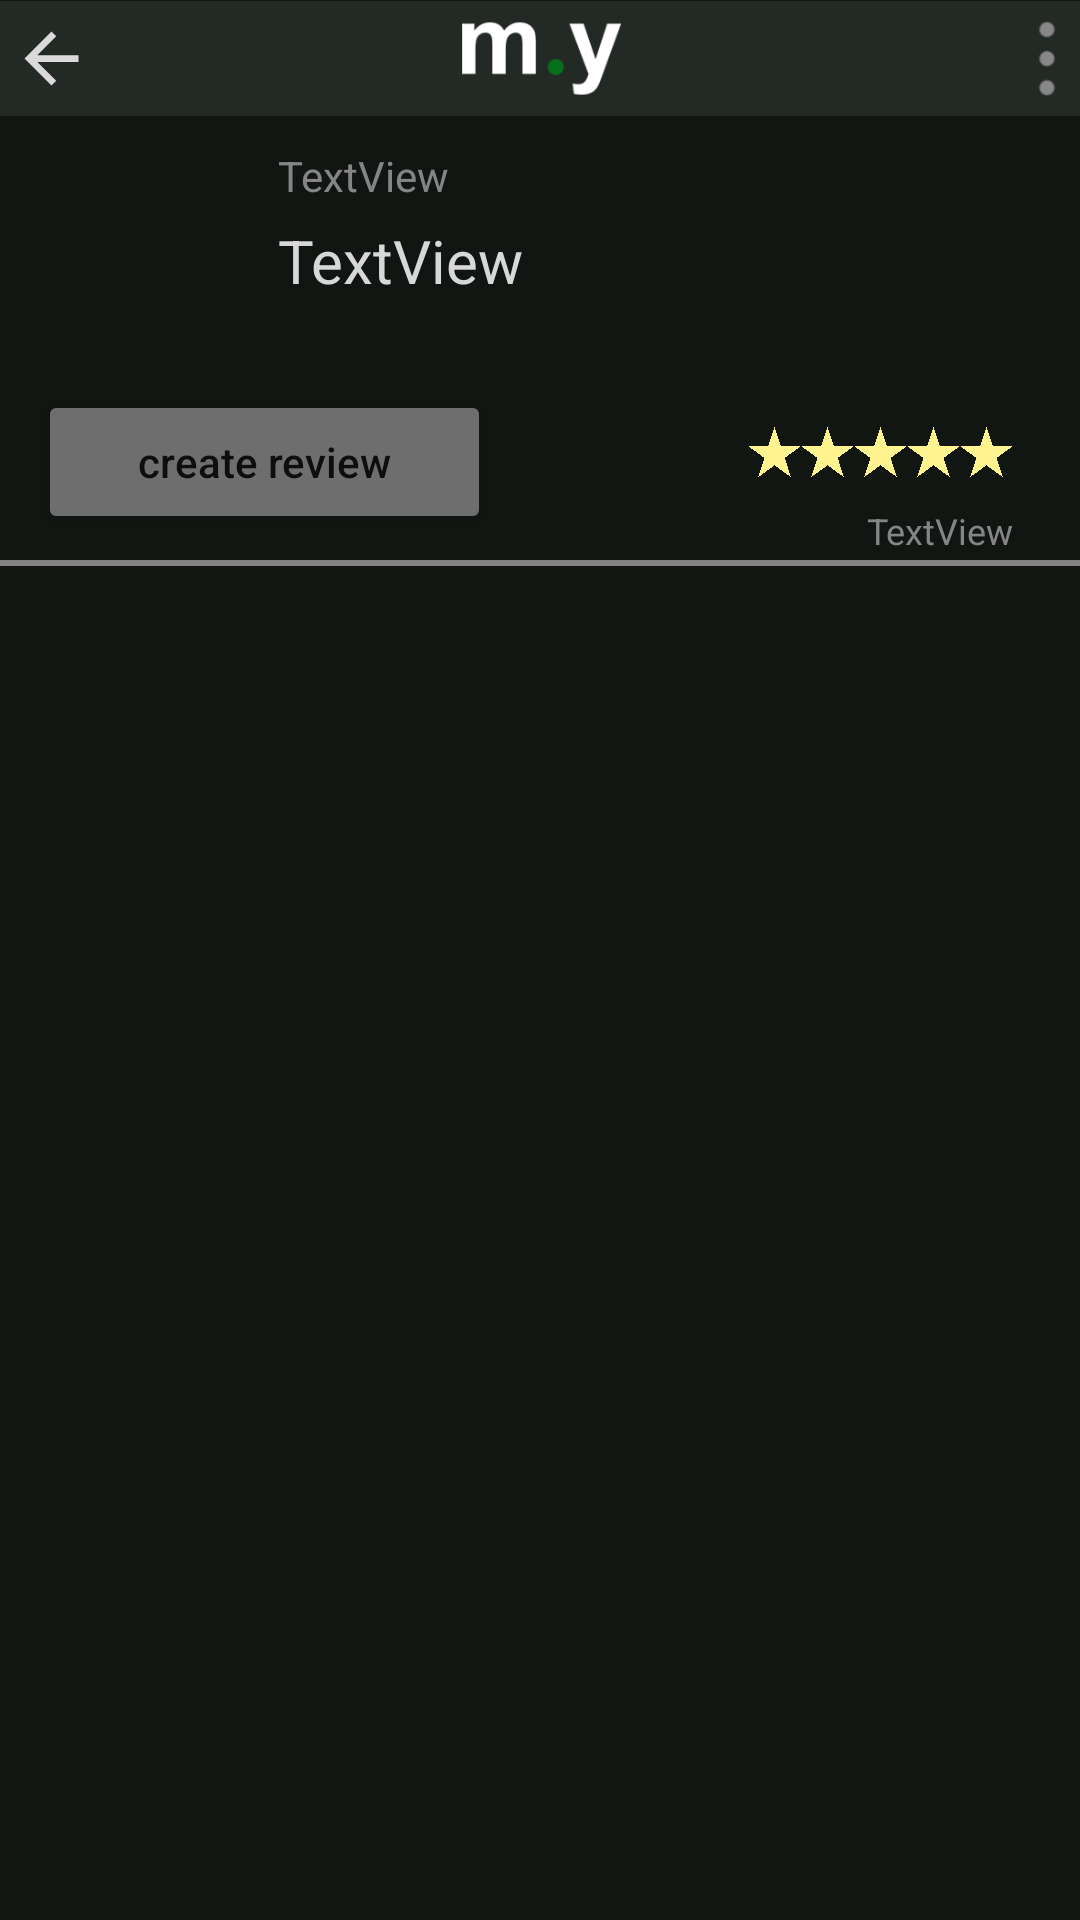

Point at icon controls on the screen. Image size 1080w x 1920h, points as point (x, y).
fivestar: point (880, 452)
options: point (1047, 59)
